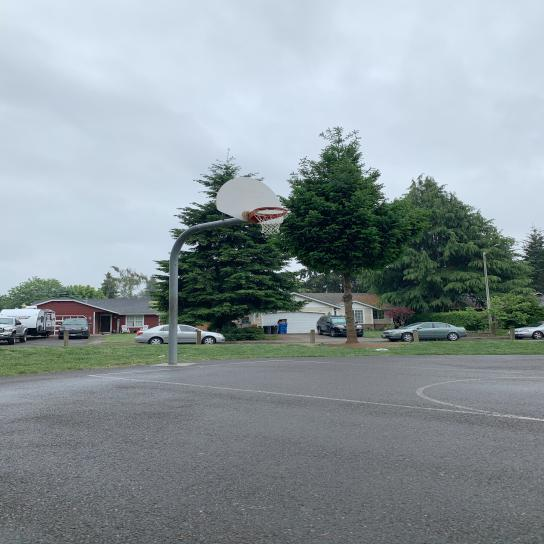basketball-hoop: (251, 206, 289, 236)
